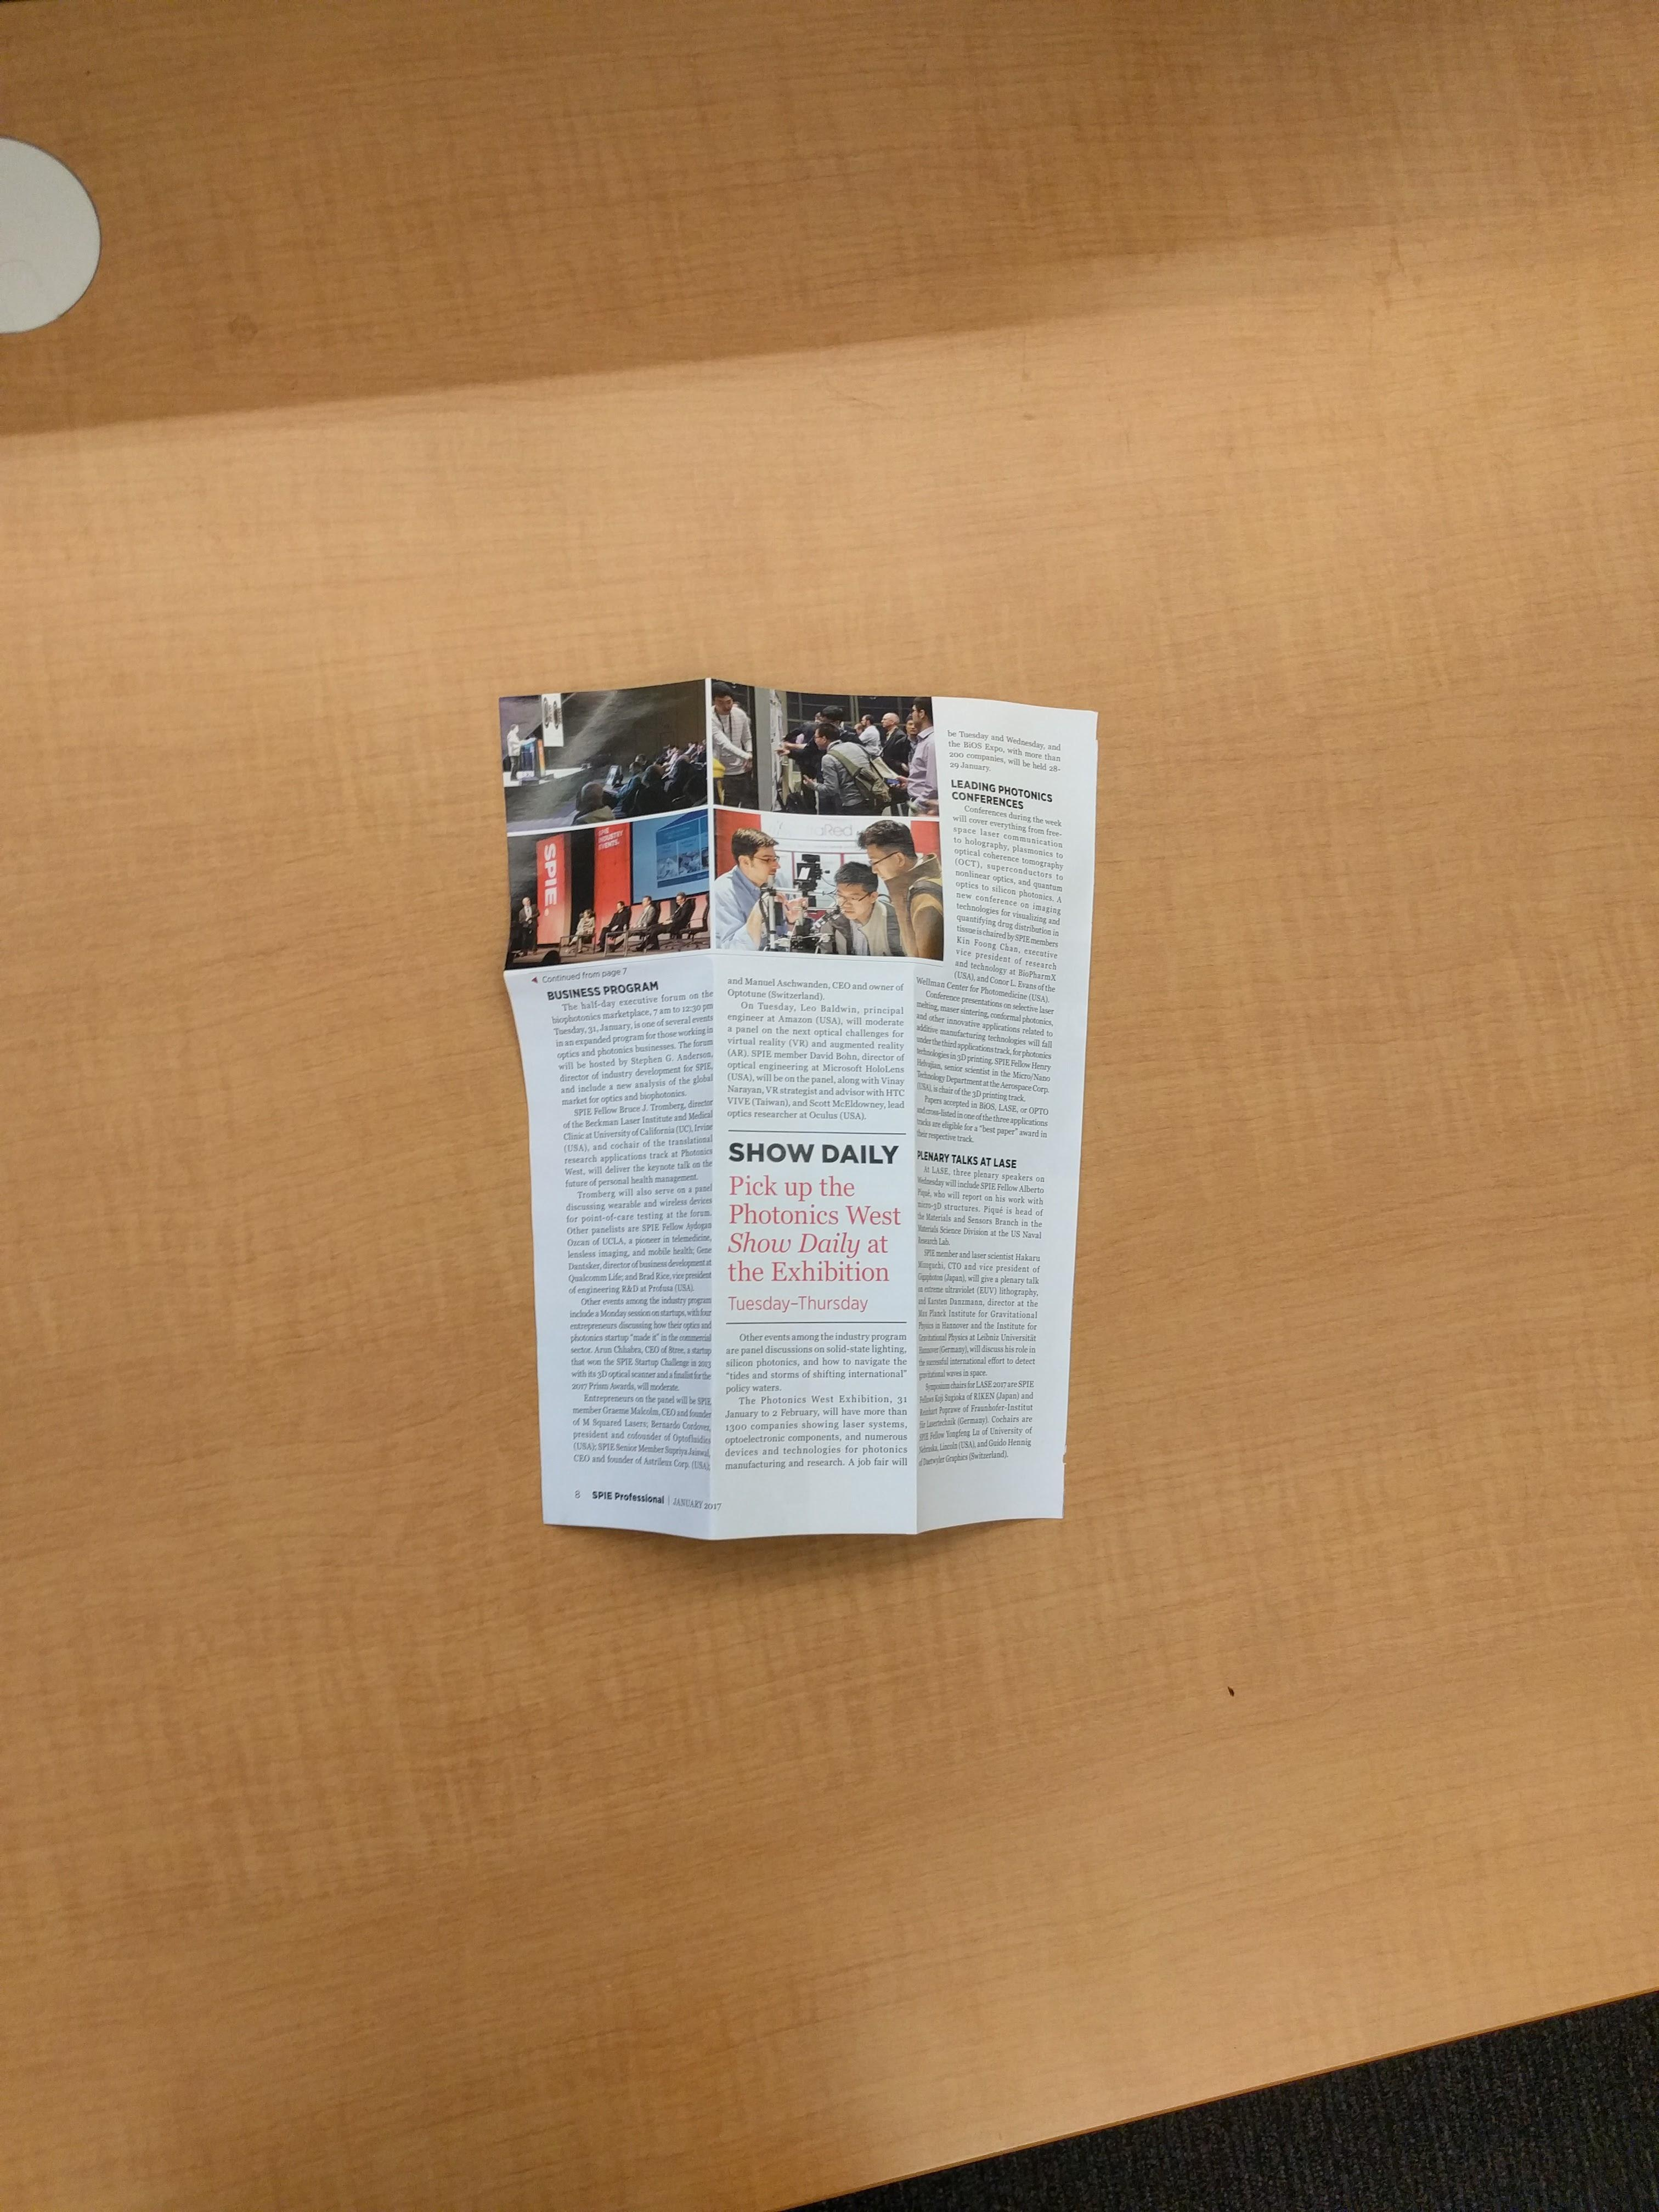paper: (318, 466, 1425, 1748)
